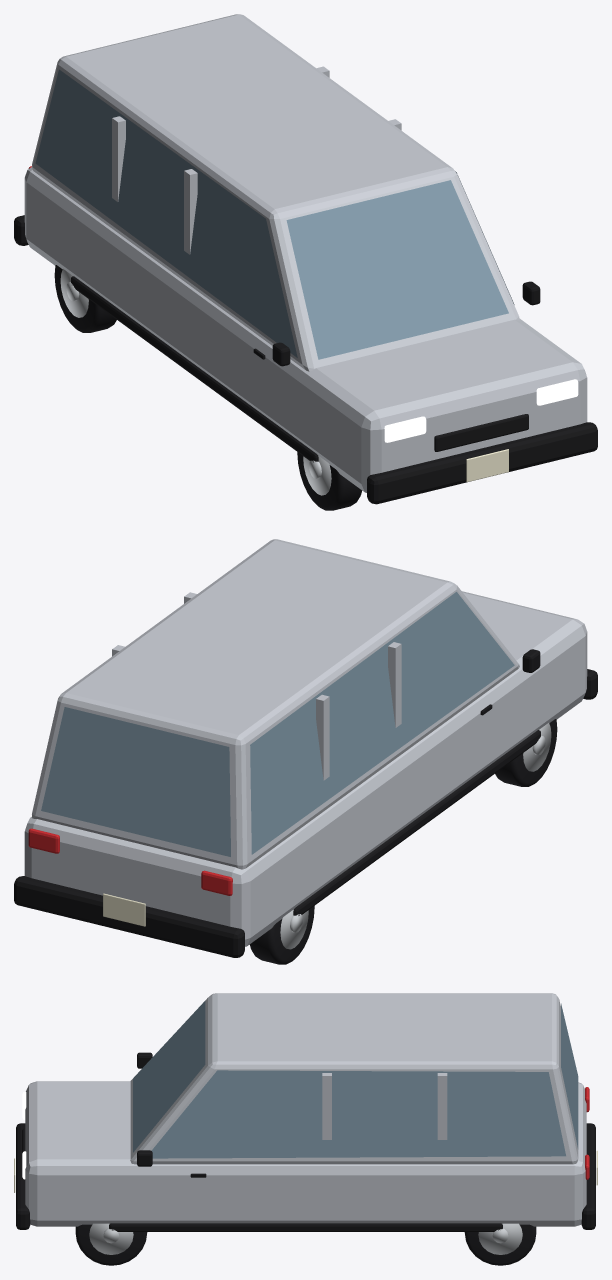
Rendered from wagon.glb.
3 views of the same model, one above another, from view 1: azimuth 30°, elevation 25°; view 2: azimuth 150°, elevation 25°; view 3: azimuth 270°, elevation 25° (orthographic). The views are drawn at different scales.
Visible parts, largest first — view 1: wagonBody, wheelFR, wheelRR; view 2: wagonBody, wheelRR, wheelFR; view 3: wagonBody, wheelFL, wheelRL.
Part boxes in pixels (bbox=[...]): wagonBody: bbox=[14, 14, 597, 504]; wheelFR: bbox=[297, 452, 361, 510]; wheelRR: bbox=[54, 265, 116, 332]; wagonBody: bbox=[14, 539, 597, 957]; wheelRR: bbox=[249, 906, 314, 964]; wheelFR: bbox=[495, 719, 557, 786]; wagonBody: bbox=[14, 993, 597, 1231]; wheelFL: bbox=[75, 1223, 147, 1265]; wheelRL: bbox=[464, 1223, 536, 1265].
Size of the model in its own units: 2.02 by 1.82 by 4.89.
